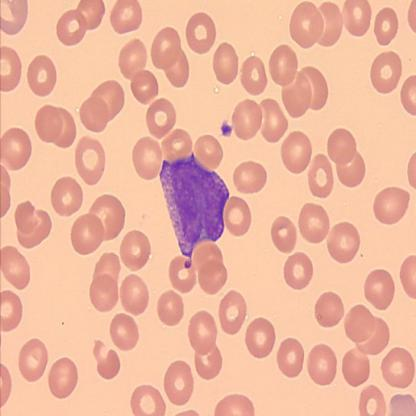Myelocyte: (158, 154, 230, 260)
